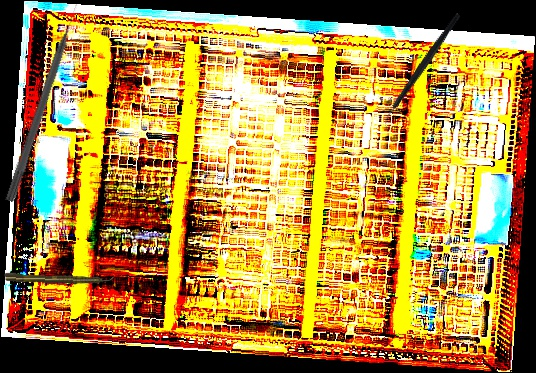Chopper: (354, 12, 491, 131)
Handpiece: (3, 272, 115, 286)
Pusher: (4, 2, 84, 204)
